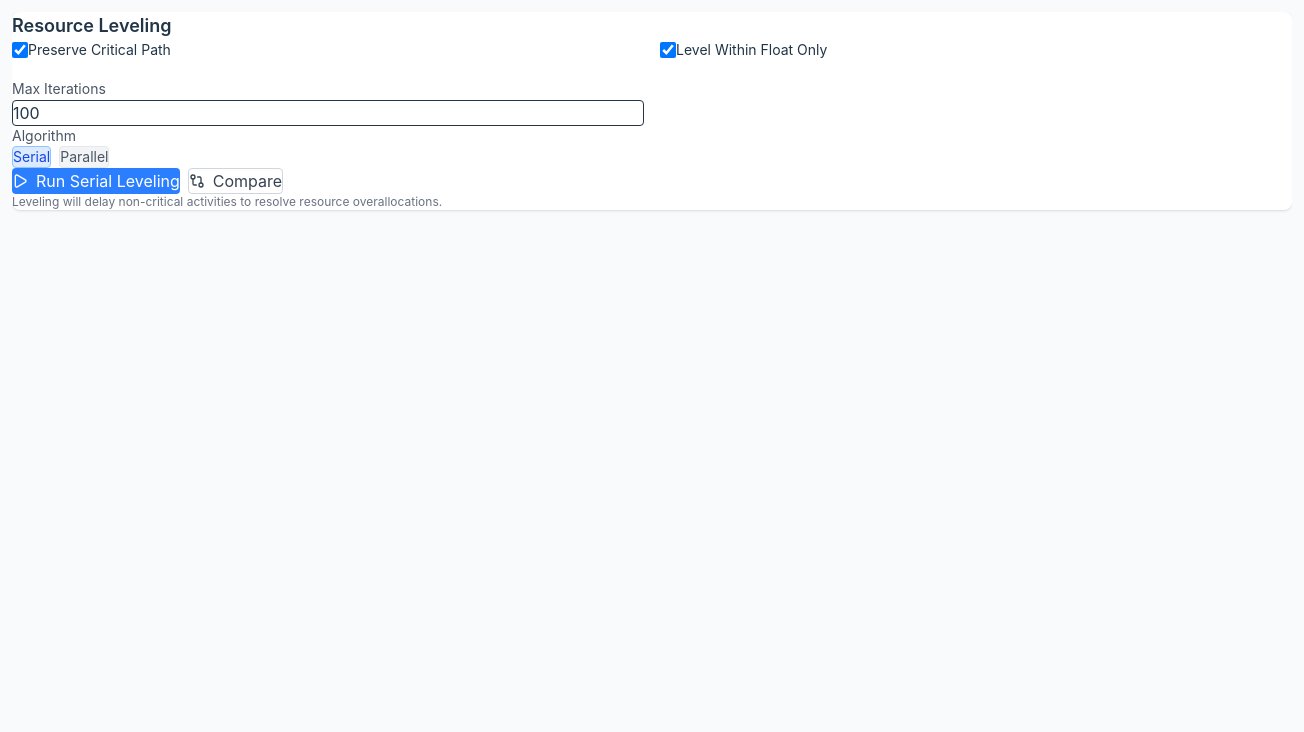
Test: LevelingPanel › resets on Reset button click
This screenshot has width=1304, height=732.
Click the button "Run Serial Leveling".
click(96, 181)  # box [12,168,180,194]
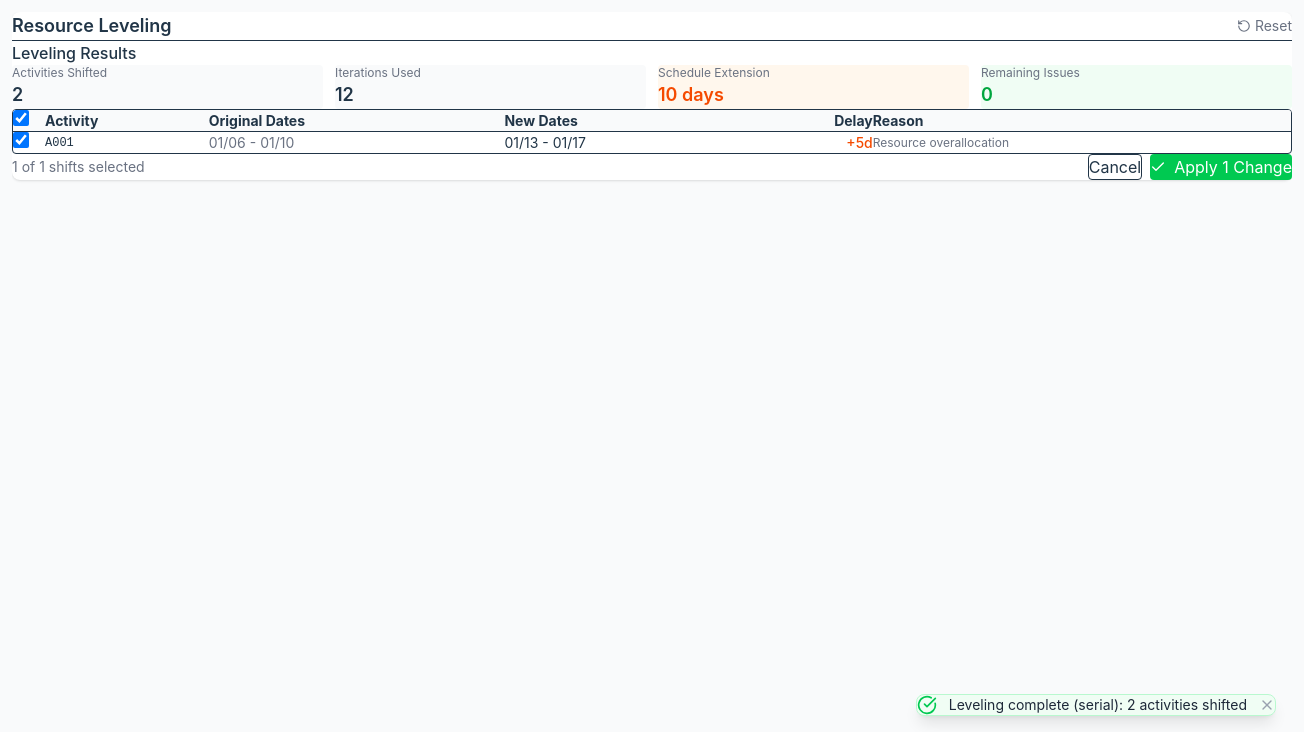
Now the heading "Leveling Results" is shown, box [12,43,136,63]
Click the button "Reset".
click(1264, 26)  # box [1237,16,1292,36]
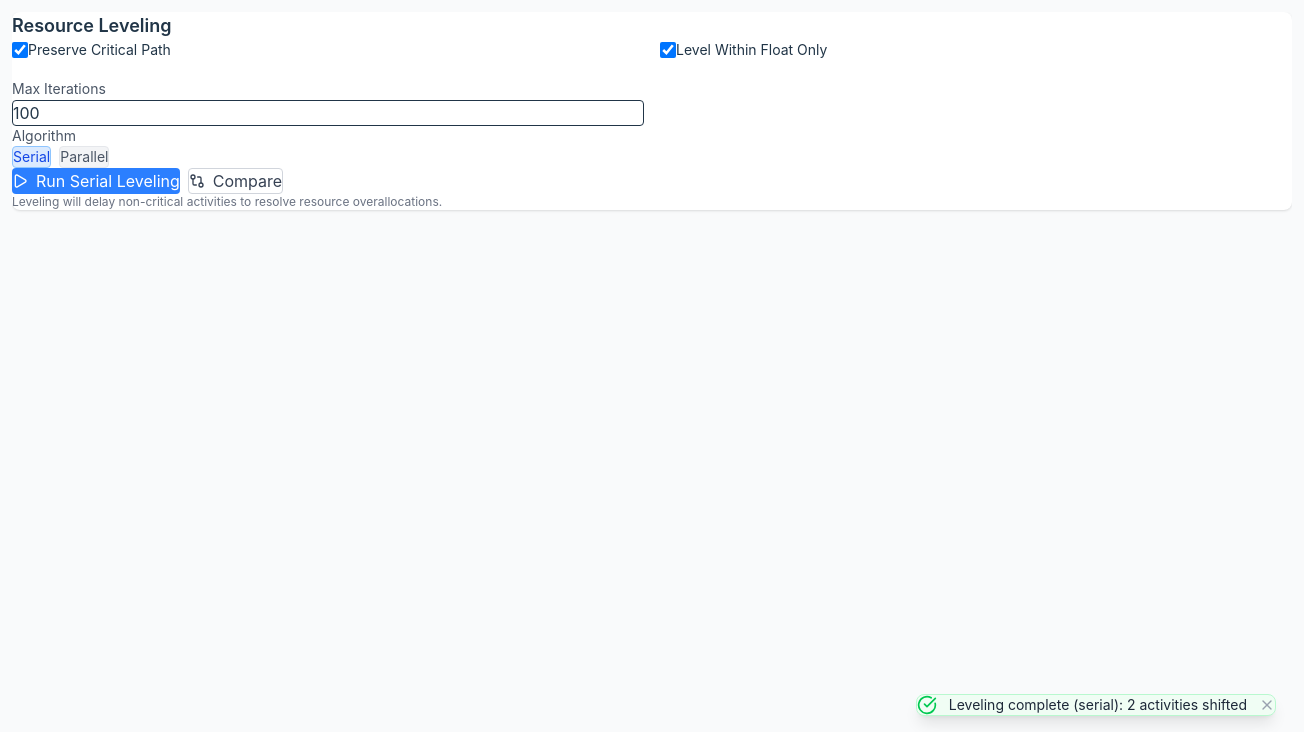
Now the button "Run Serial Leveling" is shown, box [12,168,180,194]
